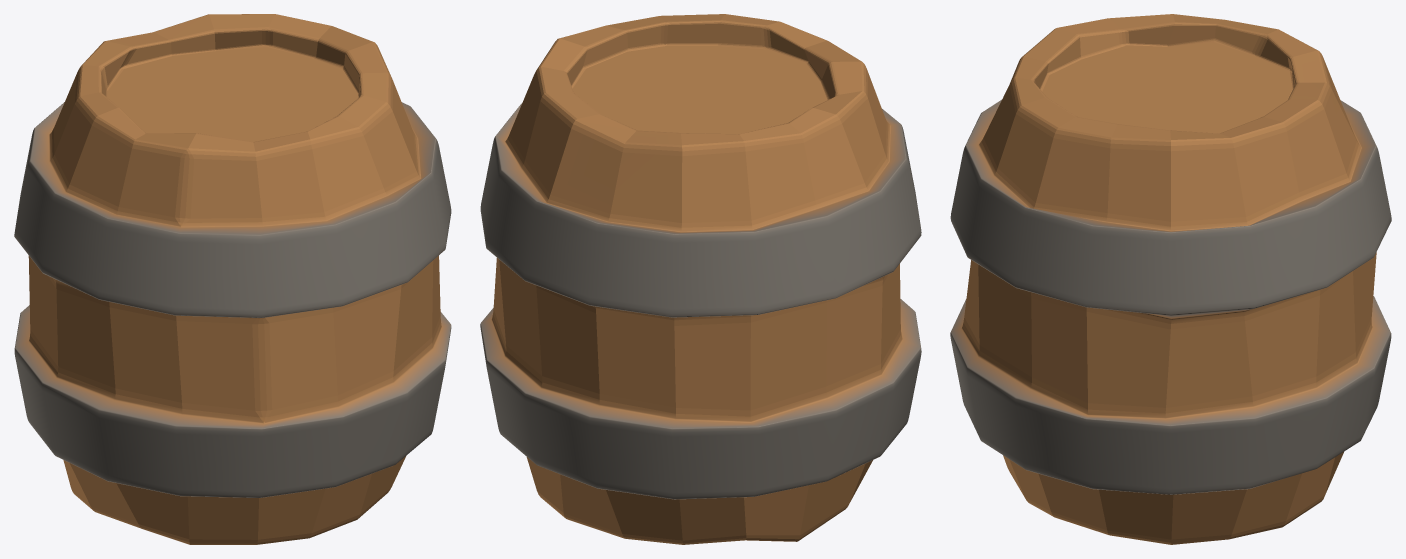
The model's file is Barrel.glb.
3 renders of one model, left to right at view 1: azimuth 30°, elevation 25°; view 2: azimuth 150°, elevation 25°; view 3: azimuth 270°, elevation 25°, orthographic.
Visible parts, largest first — view 1: Circle; view 2: Circle; view 3: Circle.
Part boxes in pixels (<box>): Circle: <box>14,14,451,544</box>; Circle: <box>480,14,921,544</box>; Circle: <box>950,14,1391,544</box>.
Bounding box in the file's own units: 2.73 × 2.81 × 2.74.
